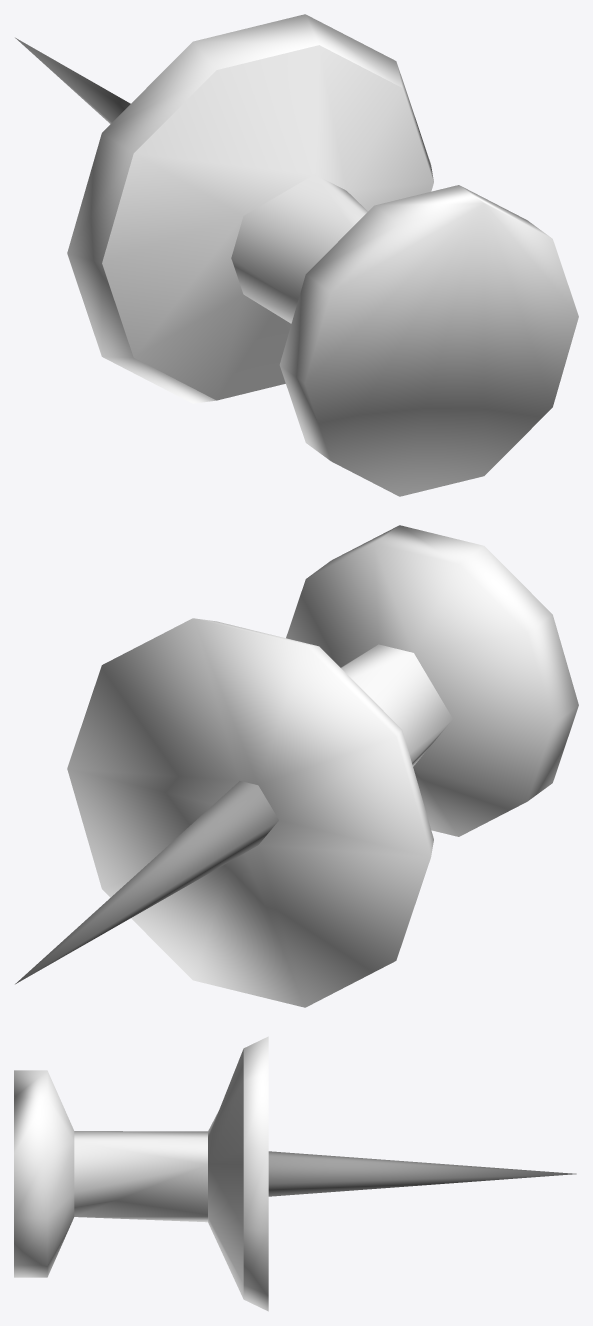
File: thumbtack_lod1.fbx
3 renders of one model, top to bottom at view 1: azimuth 30°, elevation 25°; view 2: azimuth 150°, elevation 25°; view 3: azimuth 270°, elevation 25°, orthographic. The views are drawn at different scales.
Parts seen in each view (by area): view 1: Thumb, pin; view 2: Thumb, pin; view 3: Thumb, pin.
Boxes of the visible parts, x1,y1,x2,y2 form: Thumb: [67, 14, 578, 496]; pin: [15, 37, 130, 123]; Thumb: [67, 525, 578, 1007]; pin: [15, 781, 278, 984]; Thumb: [14, 1036, 268, 1311]; pin: [268, 1151, 576, 1196].
Bounding box in the file's own units: 0.5313 × 0.5053 × 1.08.
